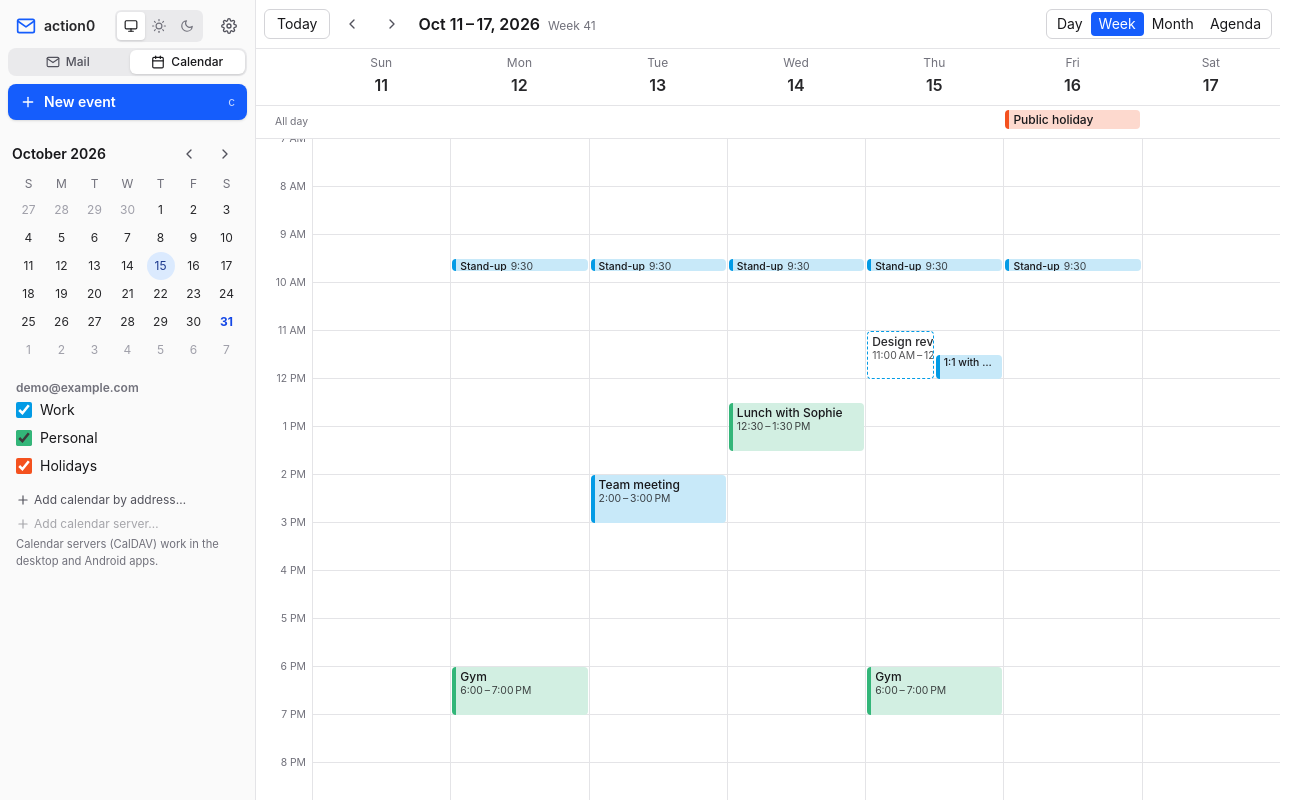
the calendar › shows the week's events from every ticked calendar
(page scrolled)
Expected: the button "Design review 11:00 AM – 12:00 PM" is shown, [867,331,934,379]
Expected: the button "Lunch with Sophie 12:30 – 1:30 PM" is shown, [729,403,864,451]
Step 1. Click the checkbox labelled "Personal" → [24, 438], box [16,430,32,446]
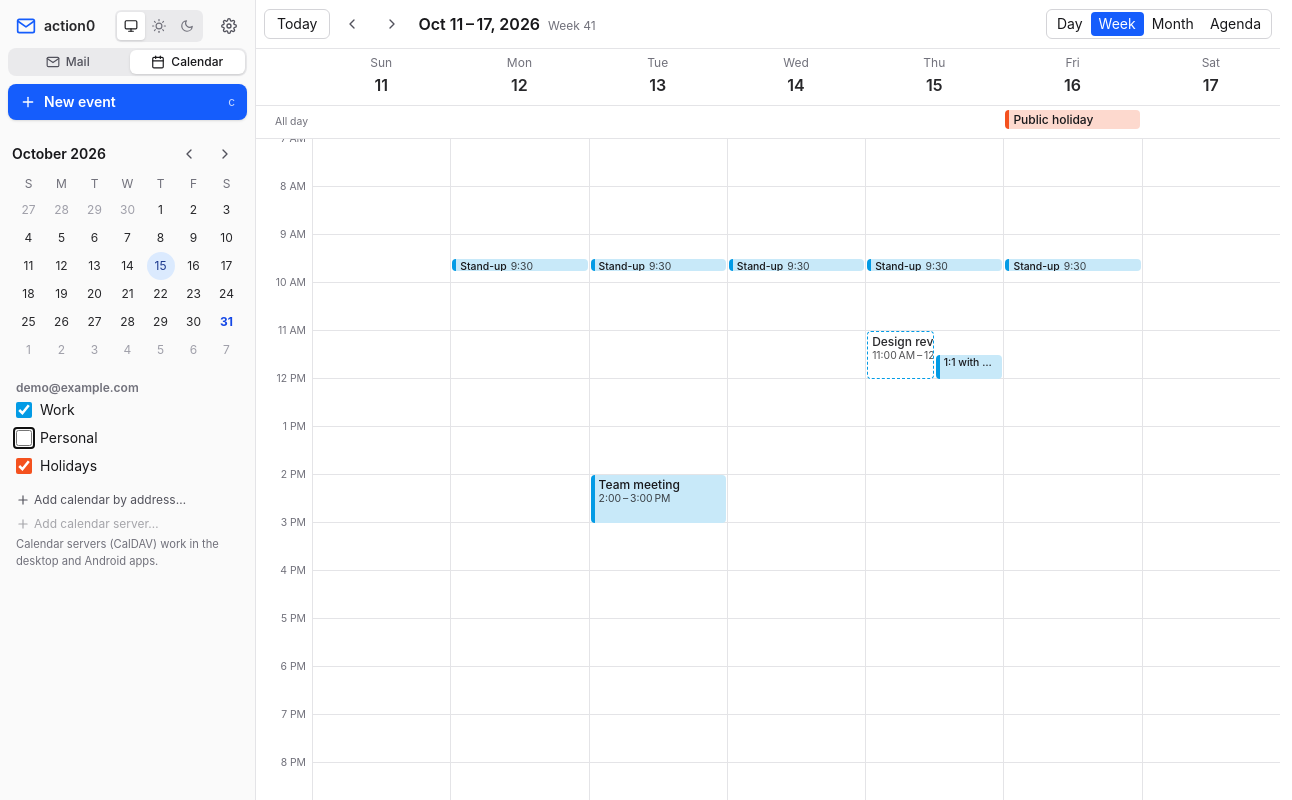
Result: the checkbox labelled "Personal" is not checked at [16,430,32,446]
Result: the button "Lunch with Sophie" is gone
